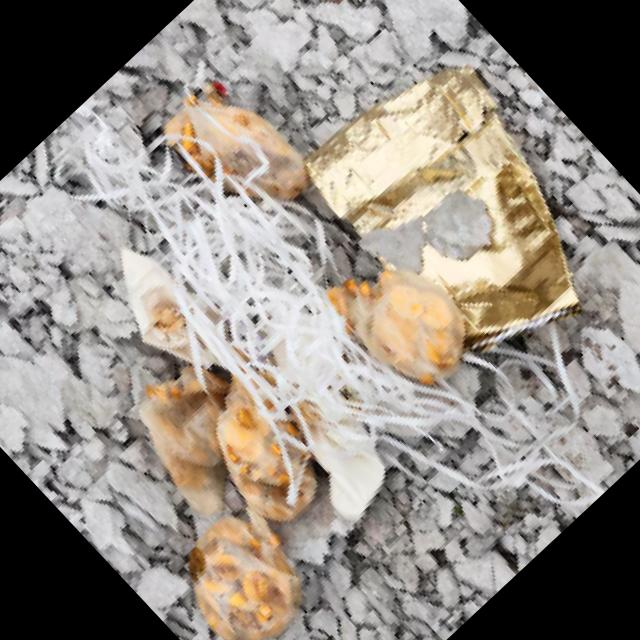KertasBekas: (67, 86, 527, 566), (53, 247, 360, 564), (147, 59, 325, 240), (318, 230, 491, 406), (155, 493, 327, 640)
